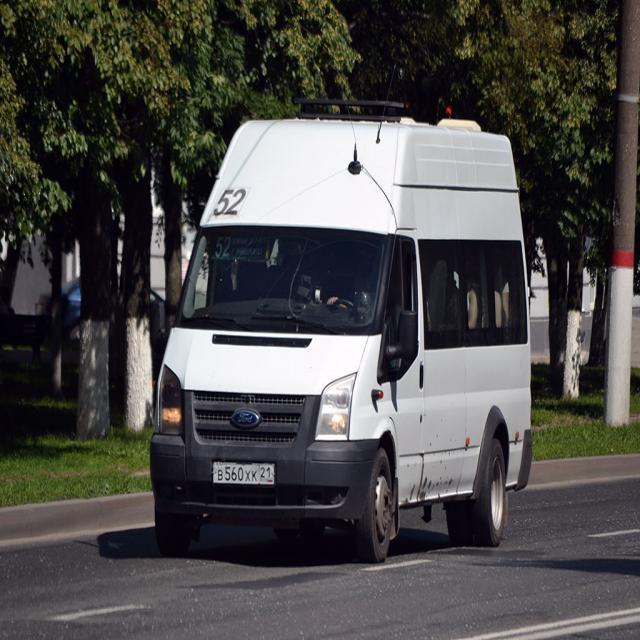number-of-bus: (216, 190, 256, 224)
